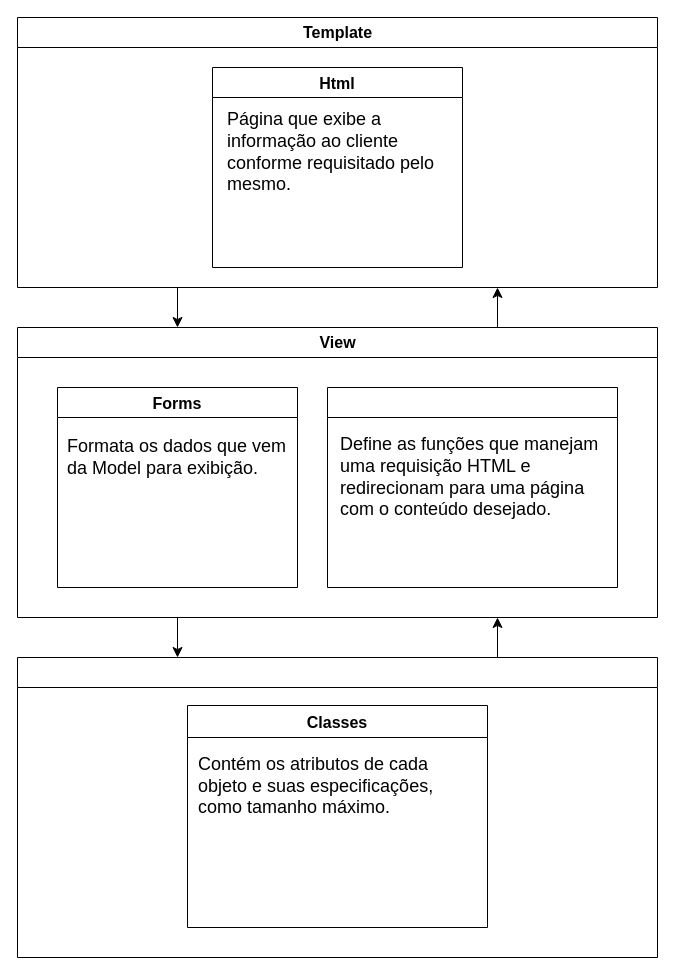
The diagram is 675 pixels wide and 975 high, and some of its shapes have lost their labels. The shapes that lost their labels are listed below. From the top down, each one's box as (x1, y1, x2, y2) in pixels, then its label:
(326, 386, 618, 588): Views
(16, 656, 658, 958): Model
